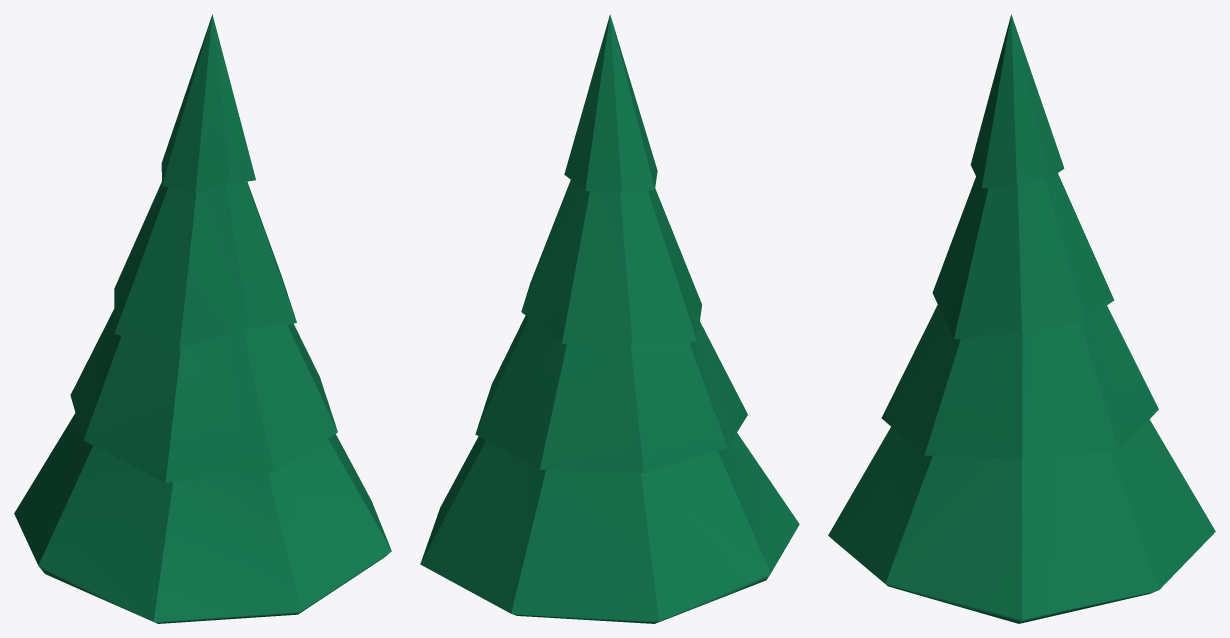
File: spruce.obj
3 views of the same model, side by side, from view 1: azimuth 30°, elevation 25°; view 2: azimuth 150°, elevation 25°; view 3: azimuth 270°, elevation 25° (orthographic).
Parts seen in each view (by area): view 1: spruce pasted__pCone1; view 2: spruce pasted__pCone1; view 3: spruce pasted__pCone1.
Boxes of the visible parts, left/top/right/bottom form: spruce pasted__pCone1: left=14, top=14, right=391, bottom=623; spruce pasted__pCone1: left=420, top=14, right=799, bottom=623; spruce pasted__pCone1: left=828, top=14, right=1215, bottom=623.
Size of the model in its own units: 3.46 by 5.79 by 3.53.
